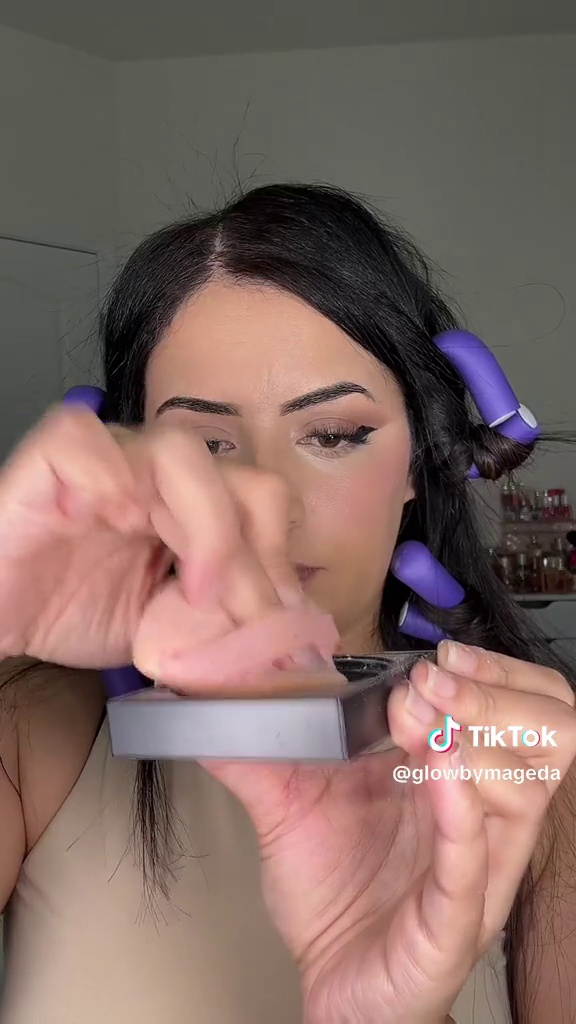train' :'yolo_data/train/images',: (98, 645, 442, 775), (130, 570, 359, 707)
